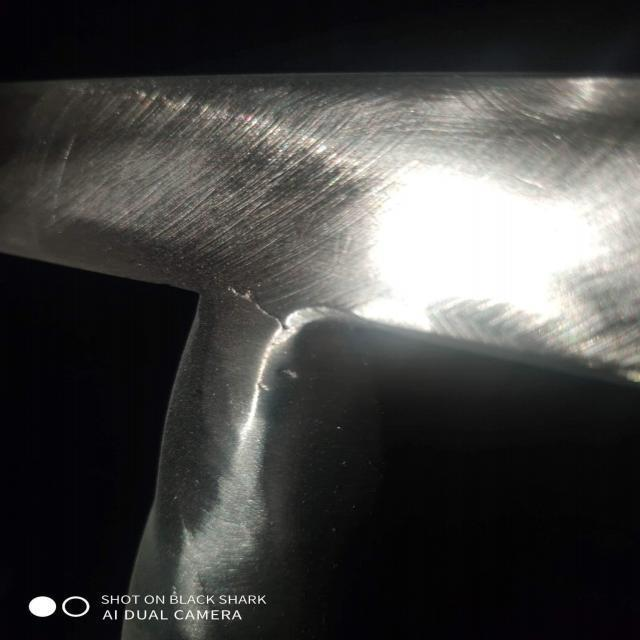Crack: (227, 286, 292, 333)
